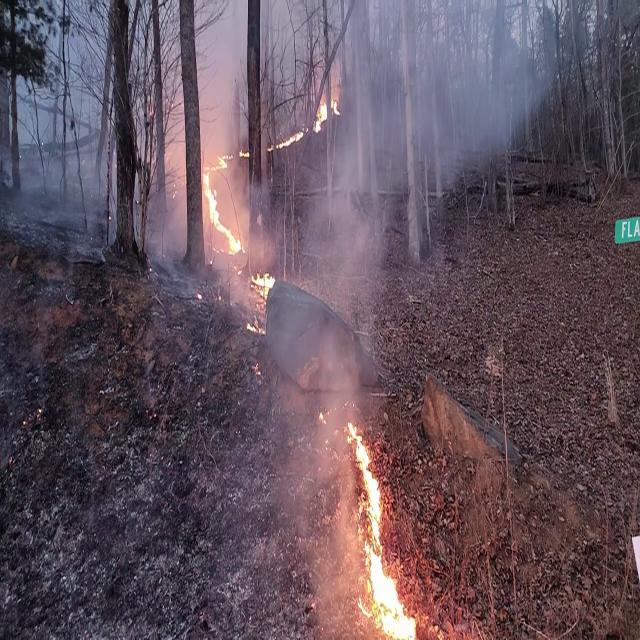Fire: (344, 414, 424, 638), (200, 150, 243, 258), (310, 90, 340, 133), (248, 262, 276, 302)
Smoke: (298, 0, 444, 455), (319, 0, 568, 180)
